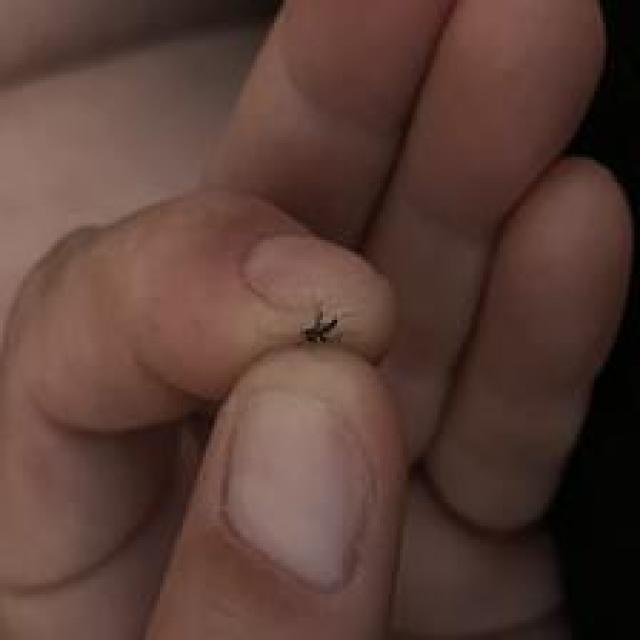Aedes albopictus: (300, 310, 343, 347)
